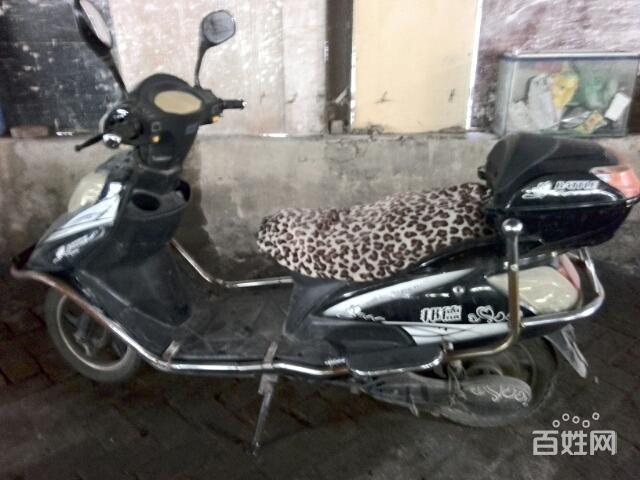电动车: (8, 2, 640, 456)
